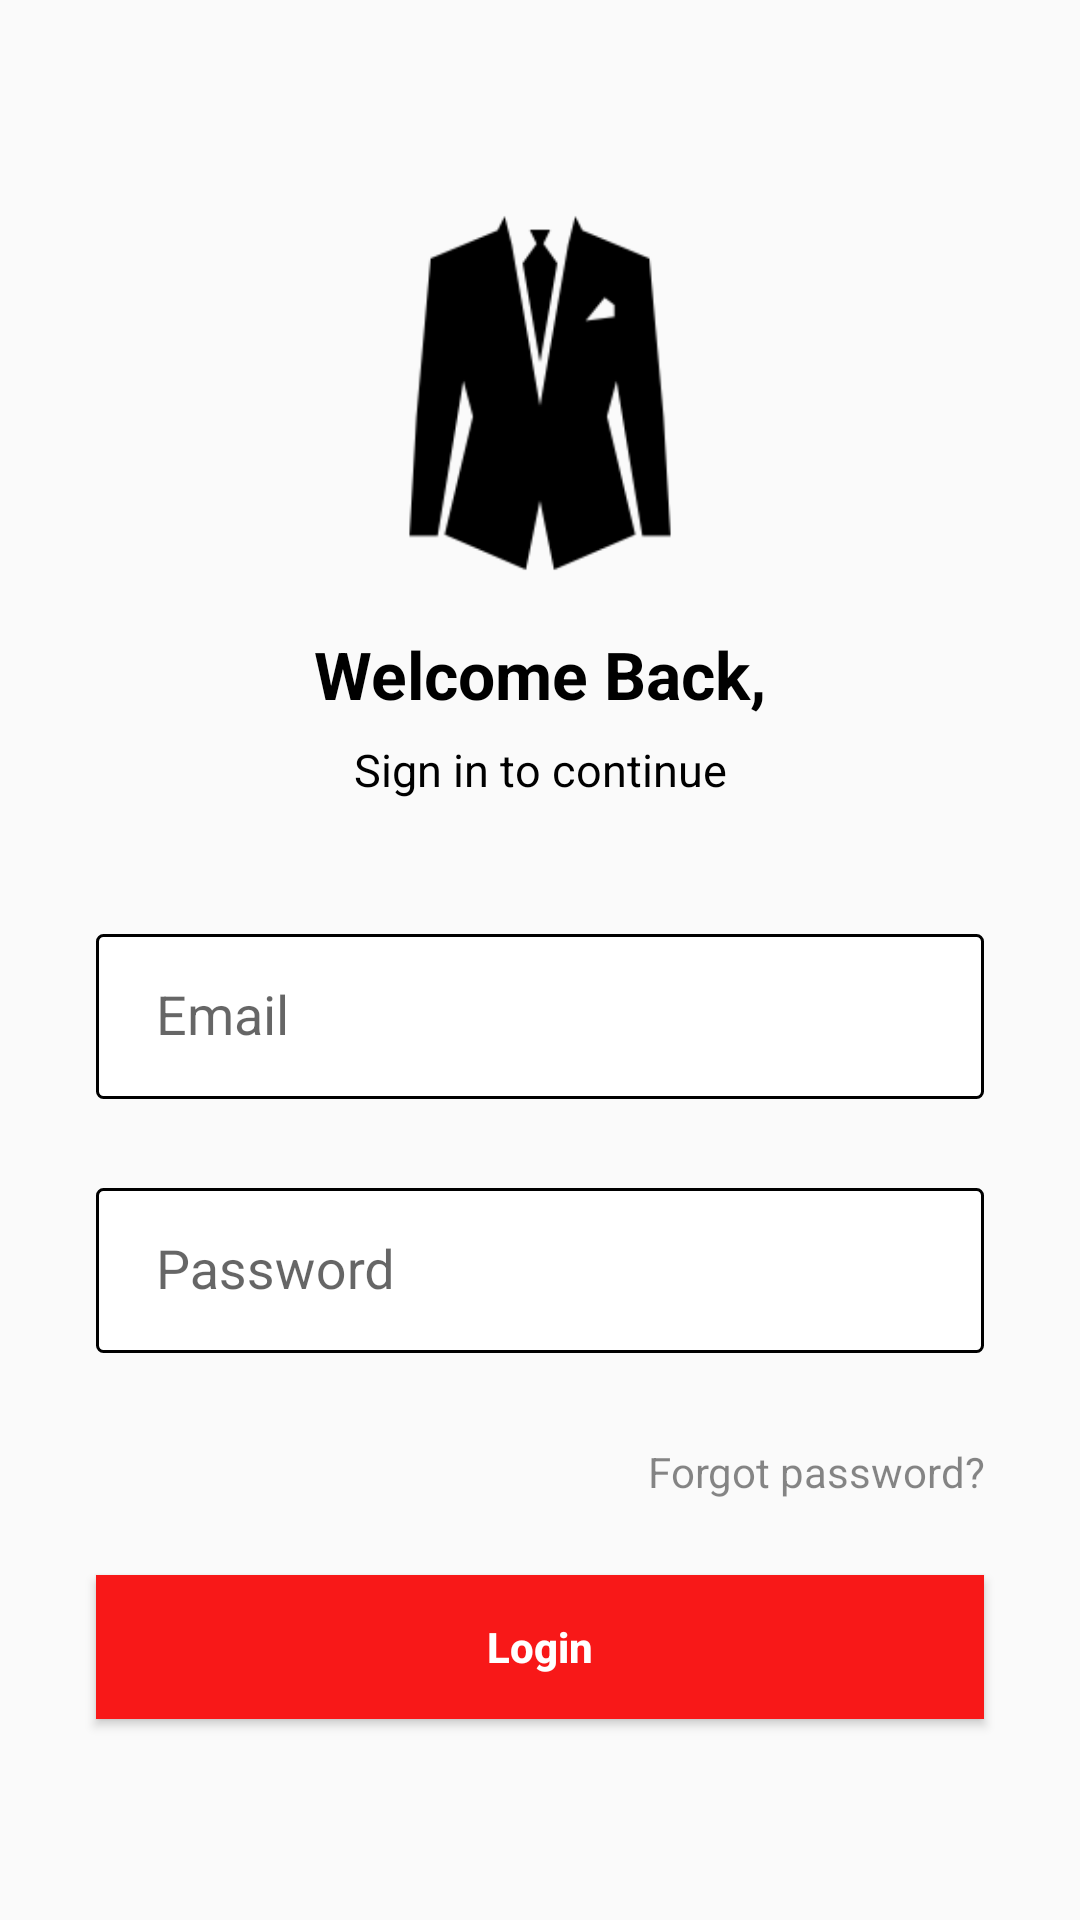

Icon click points for this 1080px x 1920px phone screenshot, format (x=x, y=y):
suit: (x=540, y=393)
